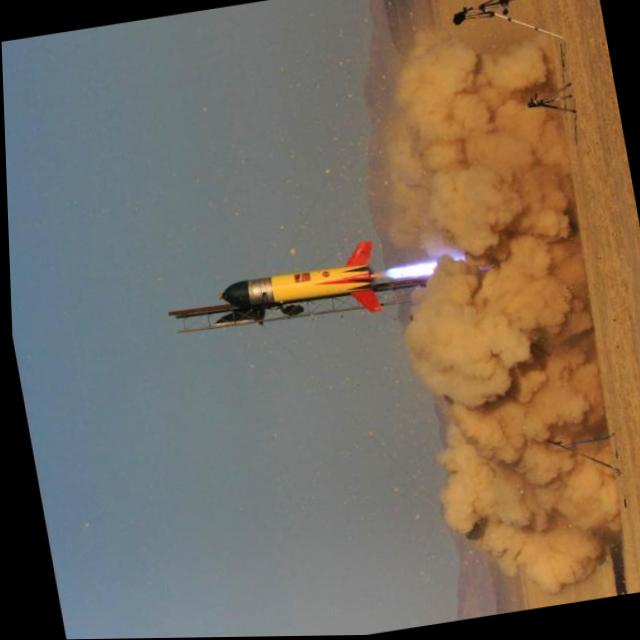missile: (212, 247, 384, 339)
